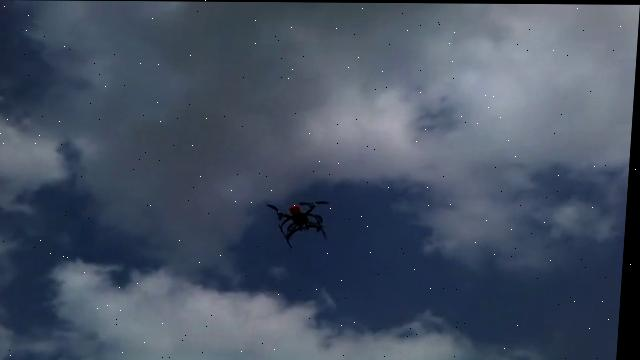drone: (266, 196, 335, 248)
